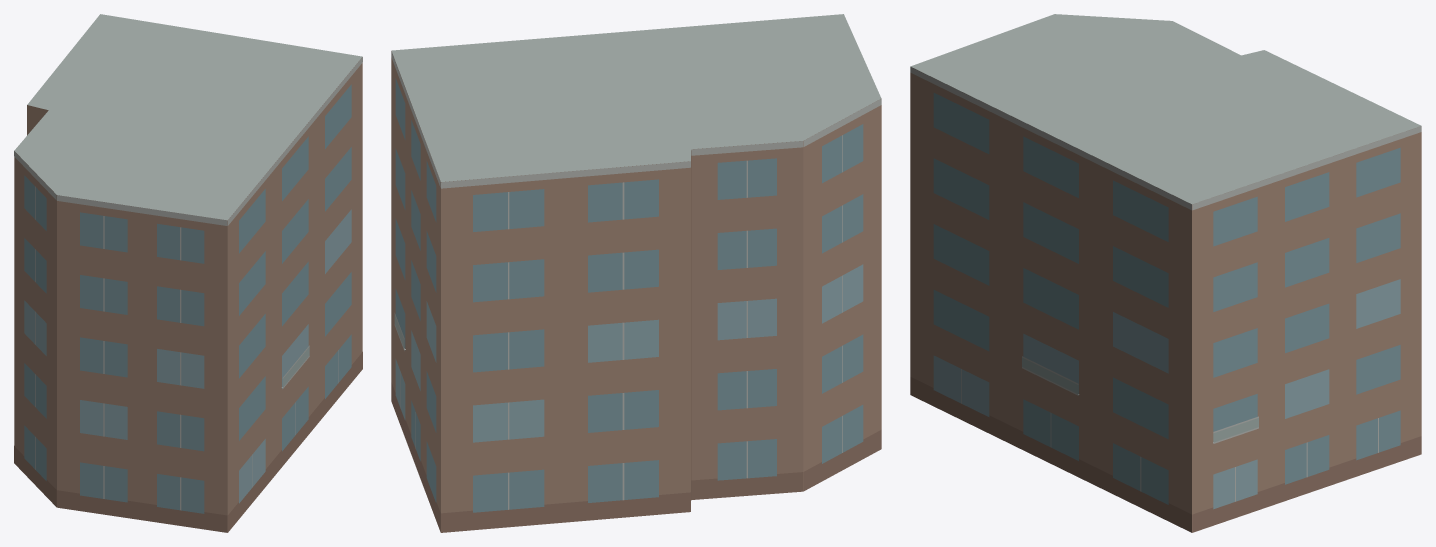
File: survey-upis-32629300.glb
The picture shows the model from 3 angles, left to right: view 1: azimuth 30°, elevation 25°; view 2: azimuth 150°, elevation 25°; view 3: azimuth 270°, elevation 25°; orthographic projection. The views are drawn at different scales.
Parts seen in each view (by area): view 1: survey-upis-32629300.tmp; view 2: survey-upis-32629300.tmp; view 3: survey-upis-32629300.tmp.
Part boxes in pixels (box(x1,y1,x2,y2)): survey-upis-32629300.tmp: box(14, 14, 362, 532); survey-upis-32629300.tmp: box(391, 14, 881, 532); survey-upis-32629300.tmp: box(910, 14, 1421, 532).
Size of the model in its own units: 16.29 by 13.1 by 18.49.
